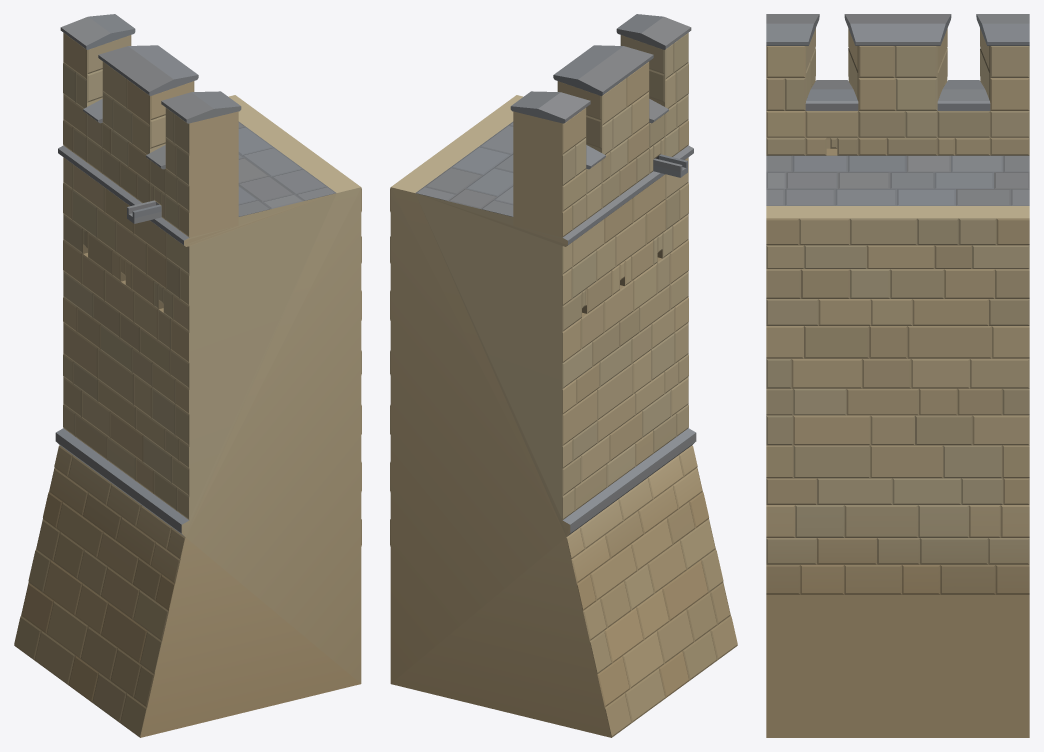
File: c6-curtain-bay-4000-b.glb
3 renders of one model, left to right at view 1: azimuth 30°, elevation 25°; view 2: azimuth 150°, elevation 25°; view 3: azimuth 270°, elevation 25°, orthographic. The views are drawn at different scales.
Visible parts, largest first — view 1: Mesh_Limestone, Mesh_Granite; view 2: Mesh_Limestone, Mesh_Granite; view 3: Mesh_Limestone, Mesh_Granite.
Part boxes in pixels (box(x1,y1,x2,y2)): Mesh_Limestone: box(14, 33, 361, 737); Mesh_Granite: box(55, 14, 336, 536); Mesh_Limestone: box(390, 33, 737, 737); Mesh_Granite: box(415, 14, 696, 536); Mesh_Limestone: box(766, 28, 1029, 737); Mesh_Granite: box(766, 14, 1029, 205).
Bounding box in the file's own units: 4.06 × 10.7 × 4.
